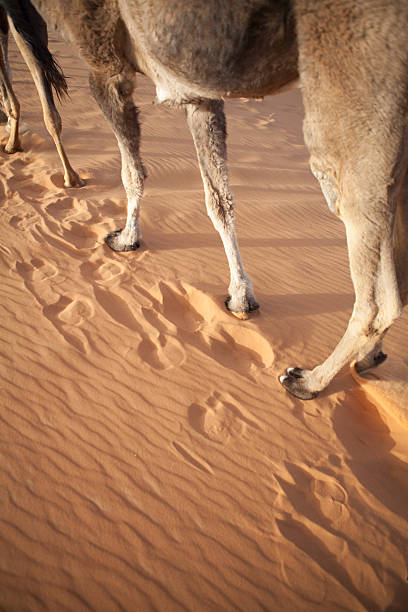animal_footprint: (152, 281, 274, 377), (16, 258, 93, 352), (277, 463, 348, 528), (188, 392, 260, 443), (43, 295, 93, 352), (137, 334, 185, 369), (172, 441, 212, 474)
